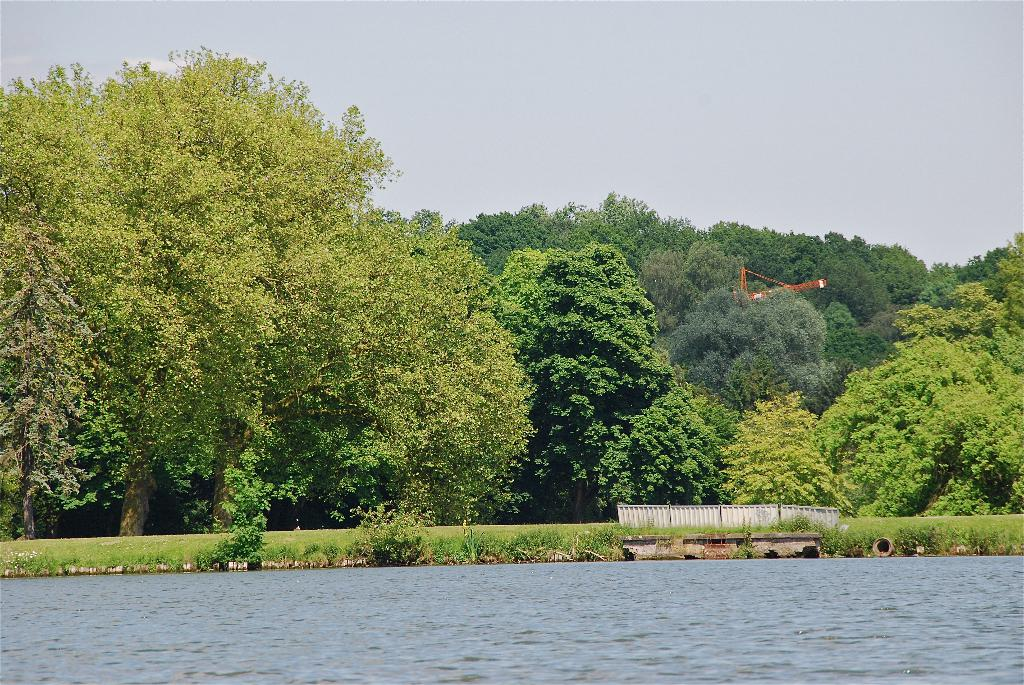Tree: (18, 28, 659, 572), (661, 228, 1023, 509)
